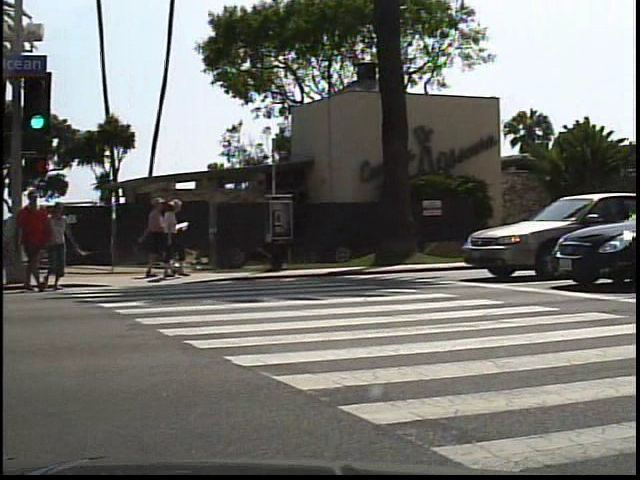person: (15, 190, 54, 297), (49, 197, 89, 293)
